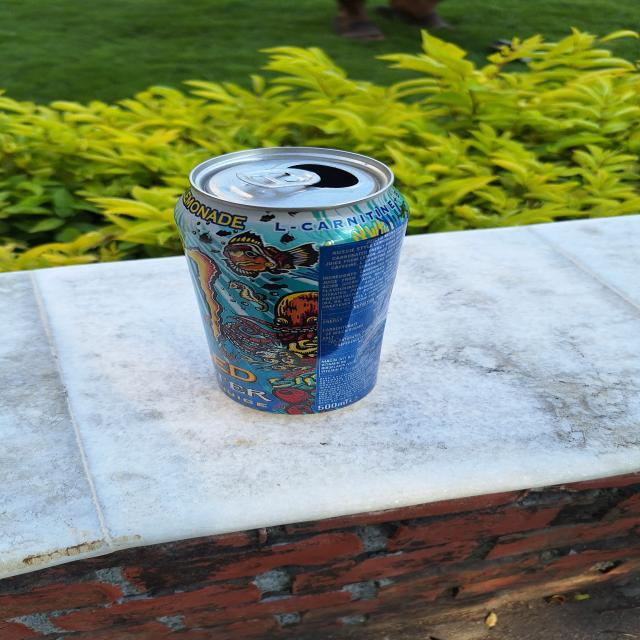Monster Aussie Lemonade: (176, 146, 404, 413)
